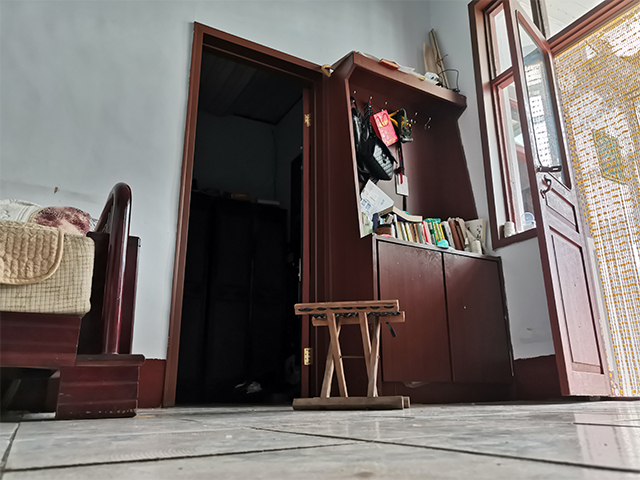cabinet: (333, 235, 520, 405)
sofa: (1, 180, 147, 422)
stool: (289, 297, 412, 413)
